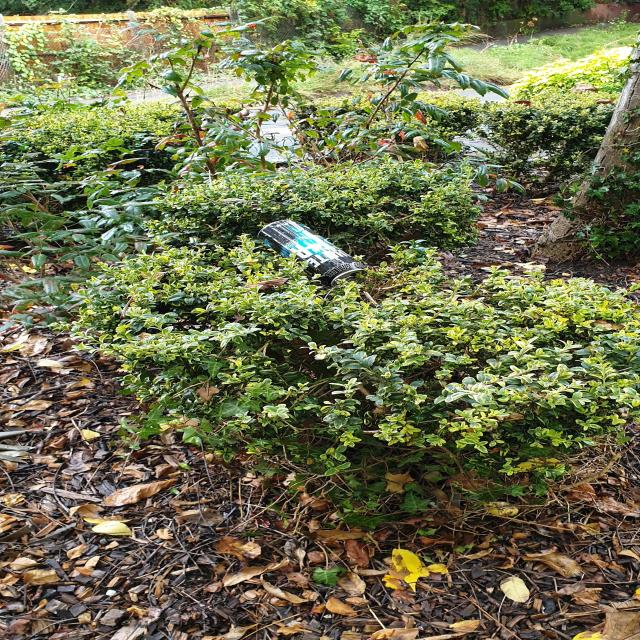litter: (253, 216, 372, 289)
